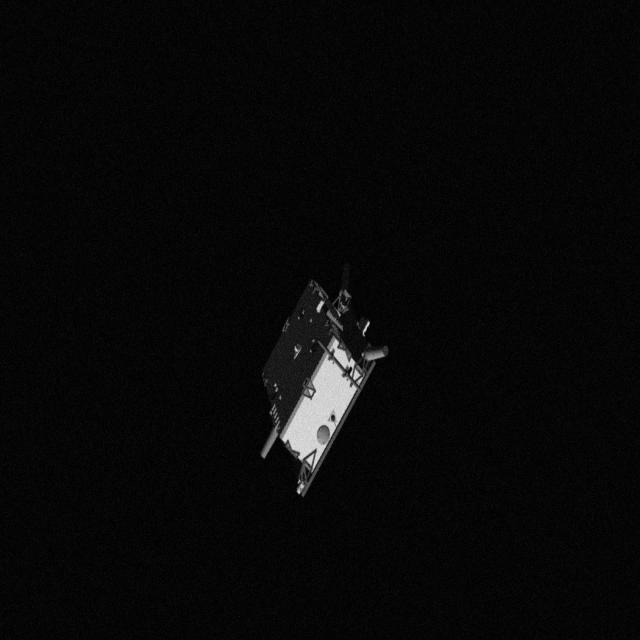medium_debris: (250, 276, 388, 502)
